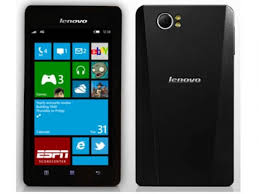lenovo: (21, 2, 123, 189), (134, 2, 235, 187)
